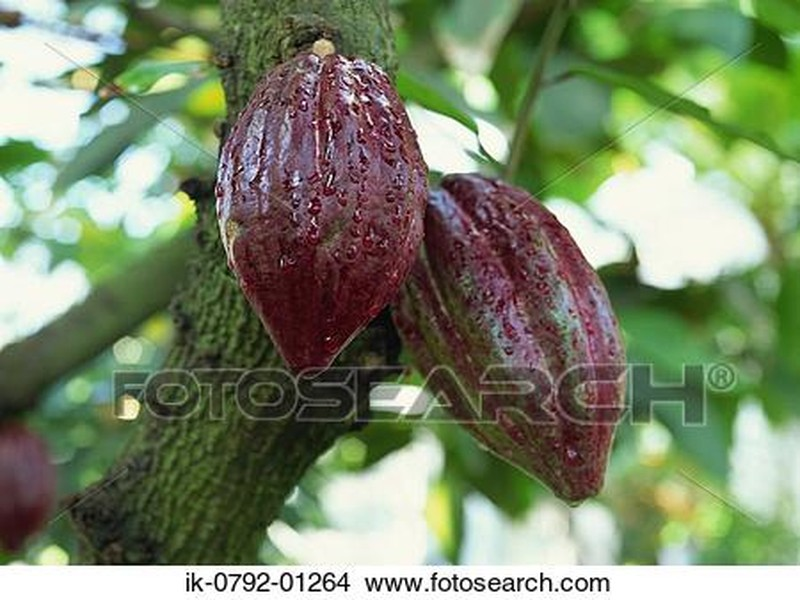Cacaopod: (389, 174, 627, 506), (214, 58, 428, 383)
